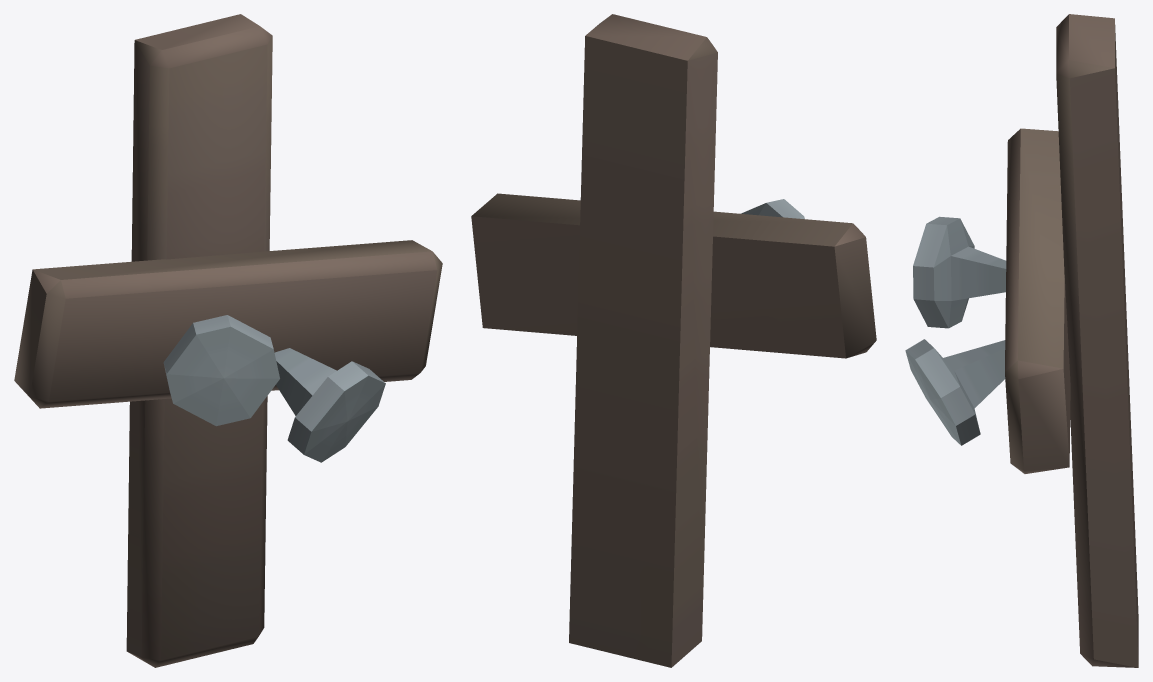
Rendered from gravemarker_b.glb.
The picture shows the model from 3 angles, left to right: view 1: azimuth 30°, elevation 25°; view 2: azimuth 150°, elevation 25°; view 3: azimuth 270°, elevation 25°; orthographic projection. The views are drawn at different scales.
Visible parts, largest first — view 1: gravemarker_B; view 2: gravemarker_B; view 3: gravemarker_B.
Part boxes in pixels (<box>): gravemarker_B: <box>14,14,442,667</box>; gravemarker_B: <box>471,14,876,667</box>; gravemarker_B: <box>905,14,1138,667</box>.
Bounding box in the file's own units: 0.8028 × 1.18 × 0.4131.
Materials: 1 (1 with a texture image).
